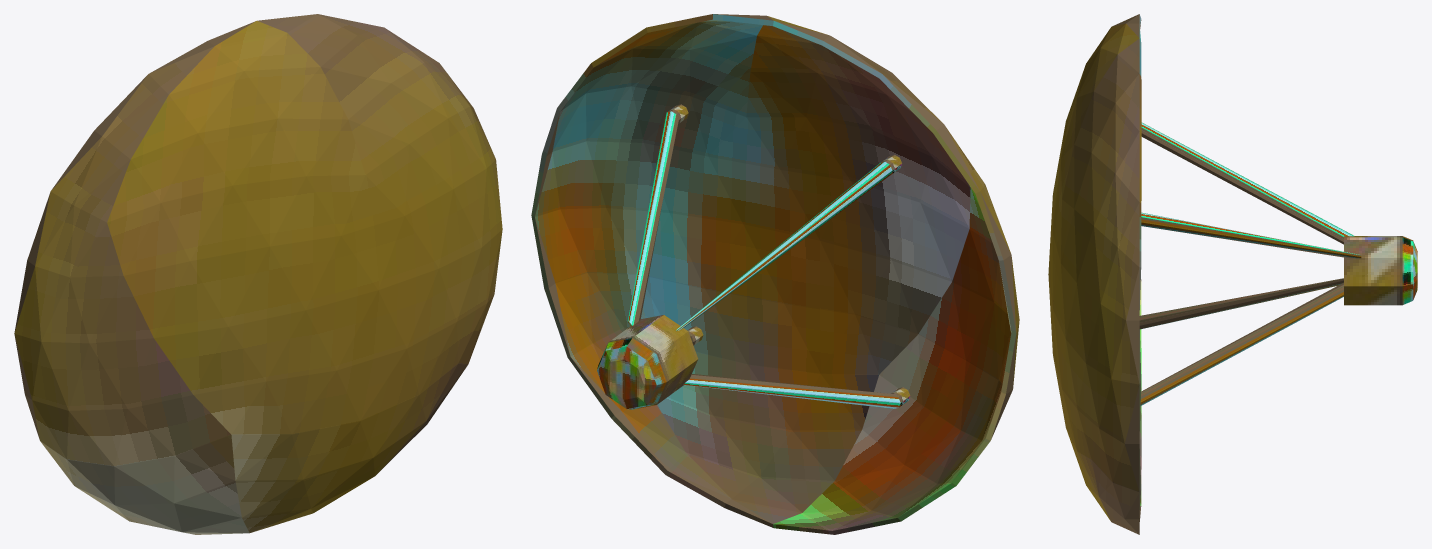
The model's file is dish.glb.
The picture shows the model from 3 angles, left to right: view 1: azimuth 30°, elevation 25°; view 2: azimuth 150°, elevation 25°; view 3: azimuth 270°, elevation 25°; orthographic projection. The views are drawn at different scales.
Visible parts, largest first — view 1: Dish; view 2: Dish; view 3: Dish.
Part boxes in pixels (box(x1,y1,x2,y2)): Dish: box(14, 14, 502, 534); Dish: box(531, 14, 1019, 534); Dish: box(1048, 14, 1417, 534).
Bounding box in the file's own units: 2 × 2 × 1.42.
1 material, 1 textured.
